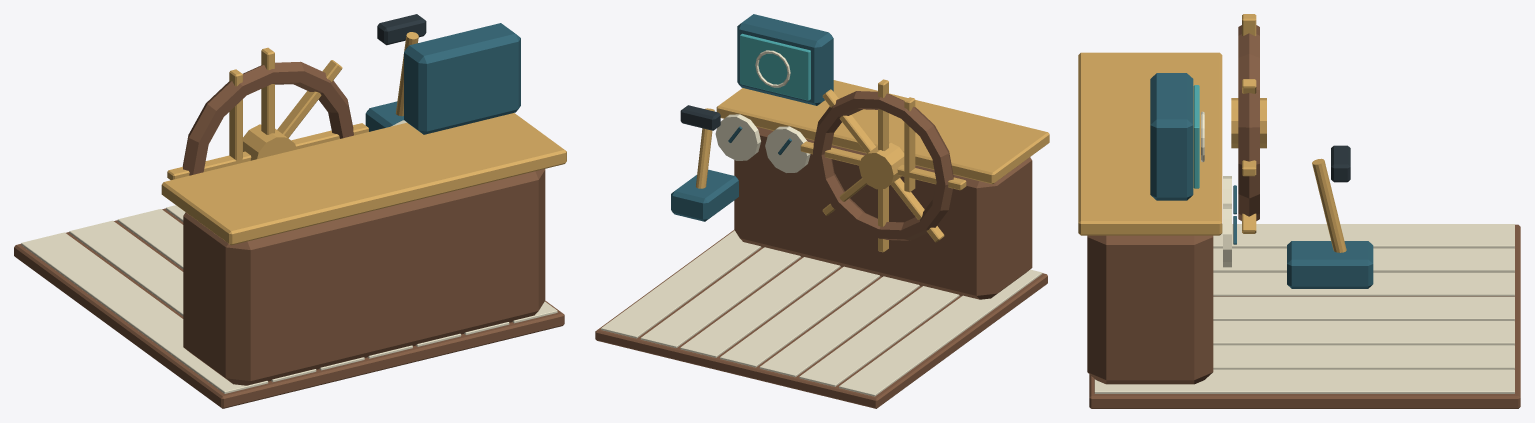
The model's file is tug-helm.glb.
3 views of the same model, side by side, from view 1: azimuth 30°, elevation 25°; view 2: azimuth 150°, elevation 25°; view 3: azimuth 270°, elevation 25° (orthographic). The views are drawn at different scales.
Visible parts, largest first — view 1: helm_console, helm_top, sonar_display, helm_floor, helm_plank_0, helm_wheel, helm_plank_1, helm_plank_2, helm_hub, helm_throttle_handle, helm_spoke_1, helm_spoke_7 (+4 smaller); view 2: helm_console, helm_top, helm_floor, helm_wheel, helm_plank_0, helm_plank_6, helm_plank_2, helm_plank_5, helm_plank_3, helm_plank_4, helm_plank_1, sonar_display (+14 smaller); view 3: helm_top, helm_console, helm_plank_6, helm_floor, helm_plank_4, helm_plank_5, helm_plank_3, helm_plank_0, helm_plank_2, sonar_display, helm_plank_1, helm_throttle_base (+6 smaller).
Boxes of the visible parts, x1,y1,x2,y2 form: helm_console: (183, 169, 545, 385); helm_top: (161, 113, 566, 245); sonar_display: (404, 23, 520, 134); helm_floor: (14, 208, 564, 408); helm_plank_0: (21, 232, 268, 393); helm_wheel: (182, 61, 353, 175); helm_plank_1: (69, 220, 316, 382); helm_plank_2: (117, 209, 364, 370); helm_hub: (243, 124, 296, 160); helm_throttle_handle: (377, 14, 426, 45); helm_spoke_1: (277, 60, 342, 137); helm_spoke_7: (229, 69, 242, 163); helm_console: (734, 126, 1032, 299); helm_top: (716, 80, 1049, 184); helm_floor: (595, 230, 1047, 408); helm_wheel: (813, 91, 953, 240); helm_plank_0: (839, 269, 1042, 396); helm_plank_6: (601, 230, 761, 338); helm_plank_2: (759, 276, 919, 377); helm_plank_5: (640, 247, 800, 348); helm_plank_3: (720, 266, 880, 367); helm_plank_4: (680, 257, 840, 357); helm_plank_1: (799, 286, 959, 386); sonar_display: (737, 14, 833, 105); helm_top: (1078, 52, 1222, 235); helm_console: (1087, 235, 1213, 384); helm_plank_6: (1094, 369, 1514, 393); helm_floor: (1089, 224, 1520, 408); helm_plank_4: (1213, 321, 1514, 345); helm_plank_5: (1213, 345, 1514, 369); helm_plank_3: (1213, 297, 1514, 320); helm_plank_0: (1213, 224, 1514, 248); helm_plank_2: (1213, 272, 1514, 296); sonar_display: (1150, 73, 1193, 200); helm_plank_1: (1213, 248, 1514, 272); helm_throttle_base: (1287, 241, 1373, 288).
Bounding box in the file's own units: 0.855 × 0.6487 × 0.9225.
